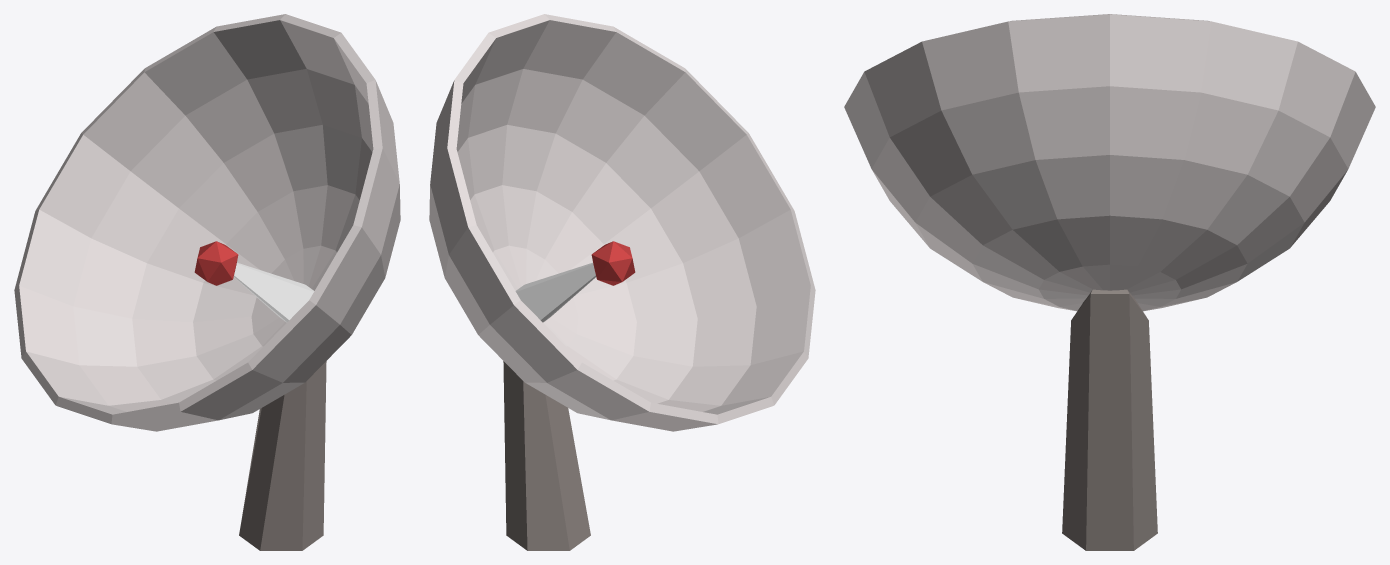
The model's file is HousePart_05.fbx.
3 views of the same model, side by side, from view 1: azimuth 30°, elevation 25°; view 2: azimuth 150°, elevation 25°; view 3: azimuth 270°, elevation 25° (orthographic). The views are drawn at different scales.
Parts seen in each view (by area): view 1: HousePart_05; view 2: HousePart_05; view 3: HousePart_05.
Boxes of the visible parts, x1=… form: HousePart_05: x1=14, y1=14, x2=400, y2=550; HousePart_05: x1=429, y1=14, x2=815, y2=550; HousePart_05: x1=844, y1=14, x2=1375, y2=550.
Bounding box in the file's own units: 1.49 × 2.21 × 1.93.
